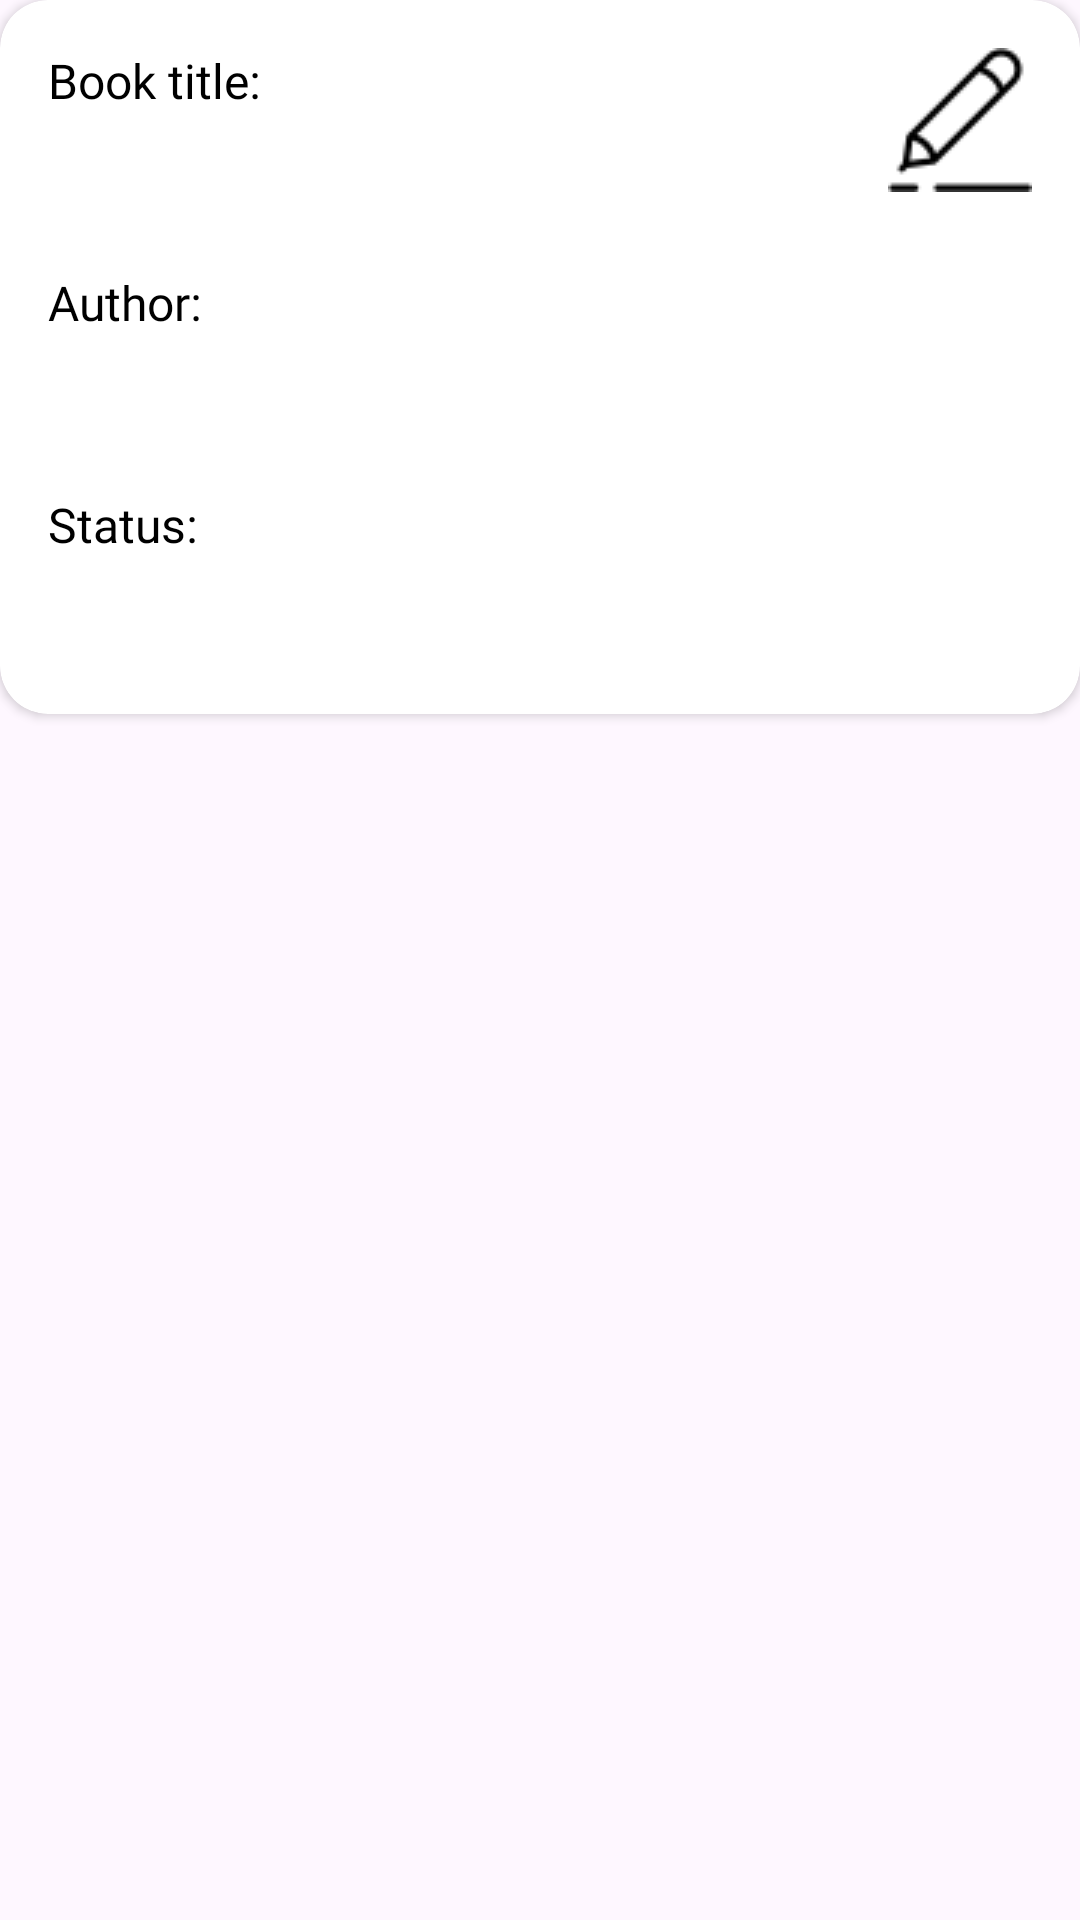

Screen size 1080*1920. Icon name, then its center in pixels as point (x, y):
edit book: point (960, 120)
